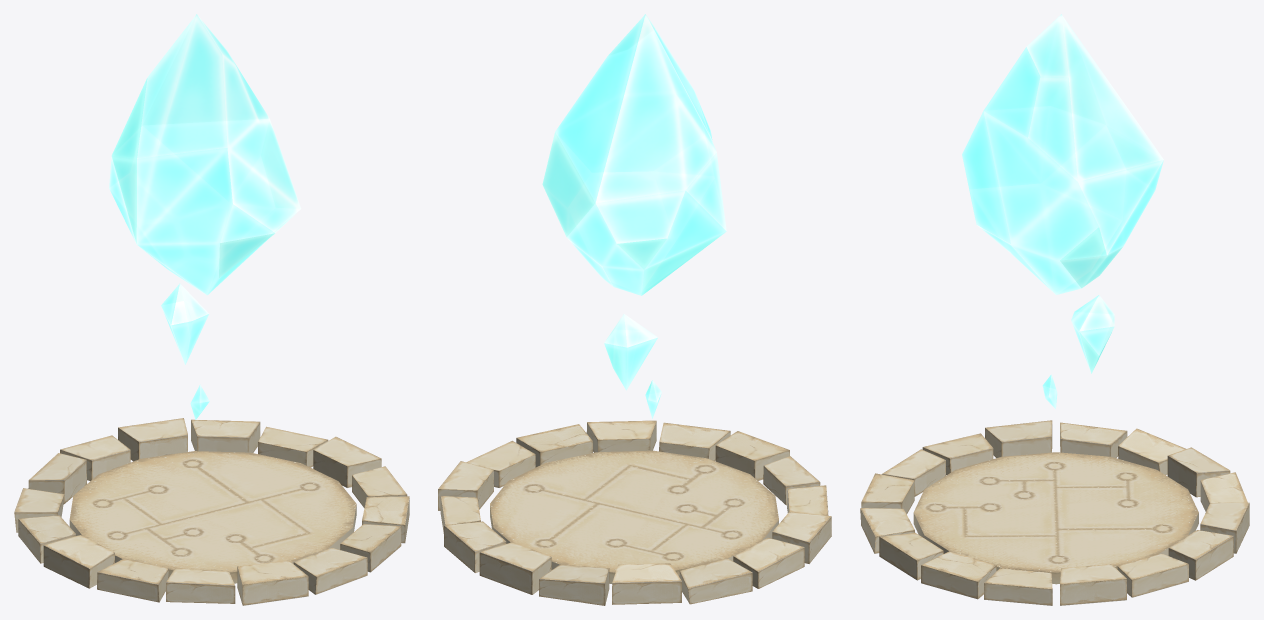
File: temple_environment_-_crystal.glb
The picture shows the model from 3 angles, left to right: view 1: azimuth 30°, elevation 25°; view 2: azimuth 150°, elevation 25°; view 3: azimuth 270°, elevation 25°; orthographic projection. The views are drawn at different scales.
Parts seen in each view (by area): view 1: Crystal1; view 2: Crystal1; view 3: Crystal1.
Boxes of the visible parts, x1,y1,x2,y2 form: Crystal1: [14, 14, 409, 605]; Crystal1: [438, 14, 831, 605]; Crystal1: [860, 14, 1249, 605].
Size of the model in its own units: 0.058 by 0.0827 by 0.058.
Materials: 4 (4 with a texture image).
